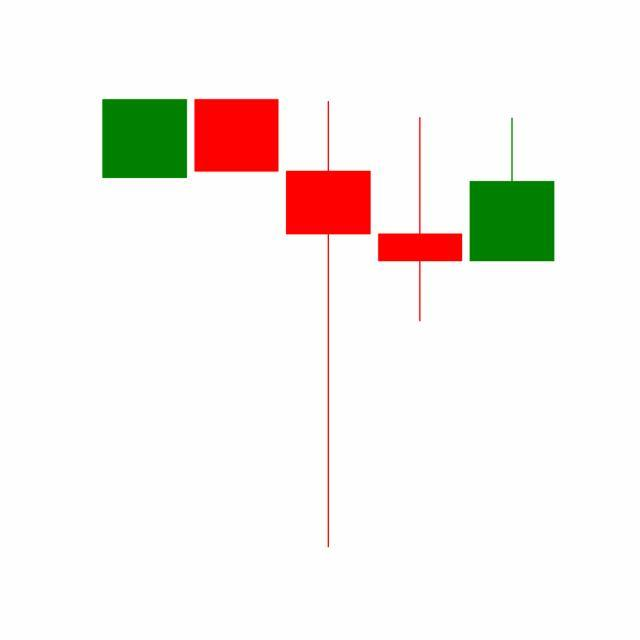Spinning Top: (374, 115, 468, 324)
